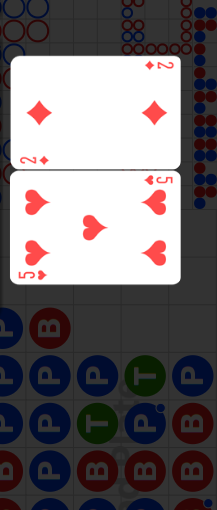2D: (142, 60, 175, 72)
5H: (17, 269, 49, 281)
